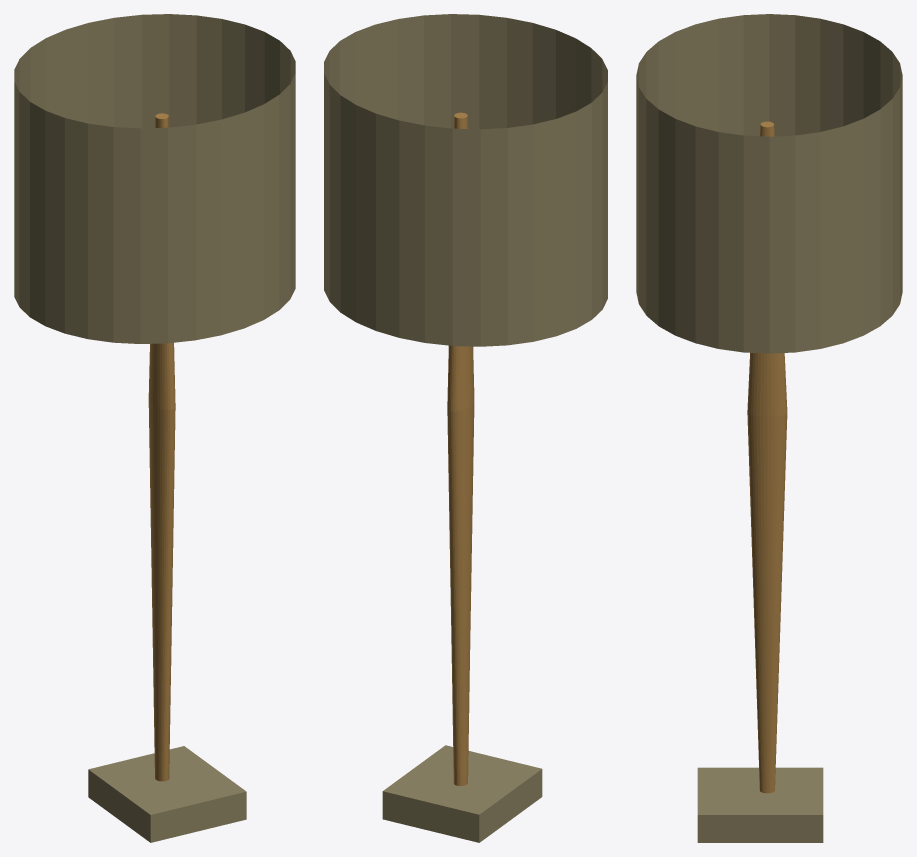
The model's file is sep_primLamp.glb.
3 views of the same model, side by side, from view 1: azimuth 30°, elevation 25°; view 2: azimuth 150°, elevation 25°; view 3: azimuth 270°, elevation 25° (orthographic).
Parts seen in each view (by area): view 1: Cube.001, Cube, Cylinder; view 2: Cube.001, Cube, Cylinder; view 3: Cube.001, Cylinder, Cube.
Boxes of the visible parts, x1,y1,x2,y2 form: Cube.001: (14,14,295,343); Cube: (88,746,246,842); Cylinder: (148,113,175,781); Cube.001: (324,14,607,346); Cube: (382,745,542,842); Cylinder: (447,112,474,785); Cube.001: (636,14,902,353); Cylinder: (747,121,787,793); Cube: (697,767,823,842).
Bounding box in the file's own units: 1.28 × 3.59 × 1.17.
